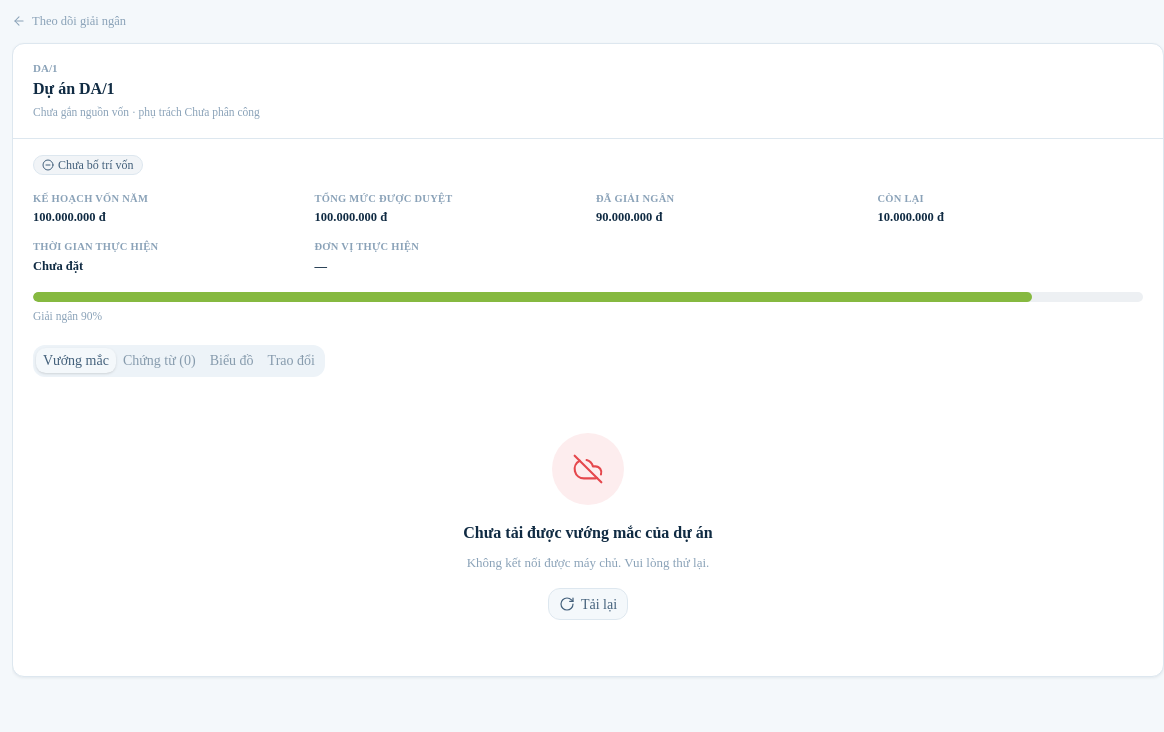
Scenario: §8.3 Biểu đồ tab — the project's curve from the server › a refused read is the server's sentence with a retry, never an empty chart
Click the tab with id "tab-bieu-do-du-an": (232, 361) [203,348,261,373]
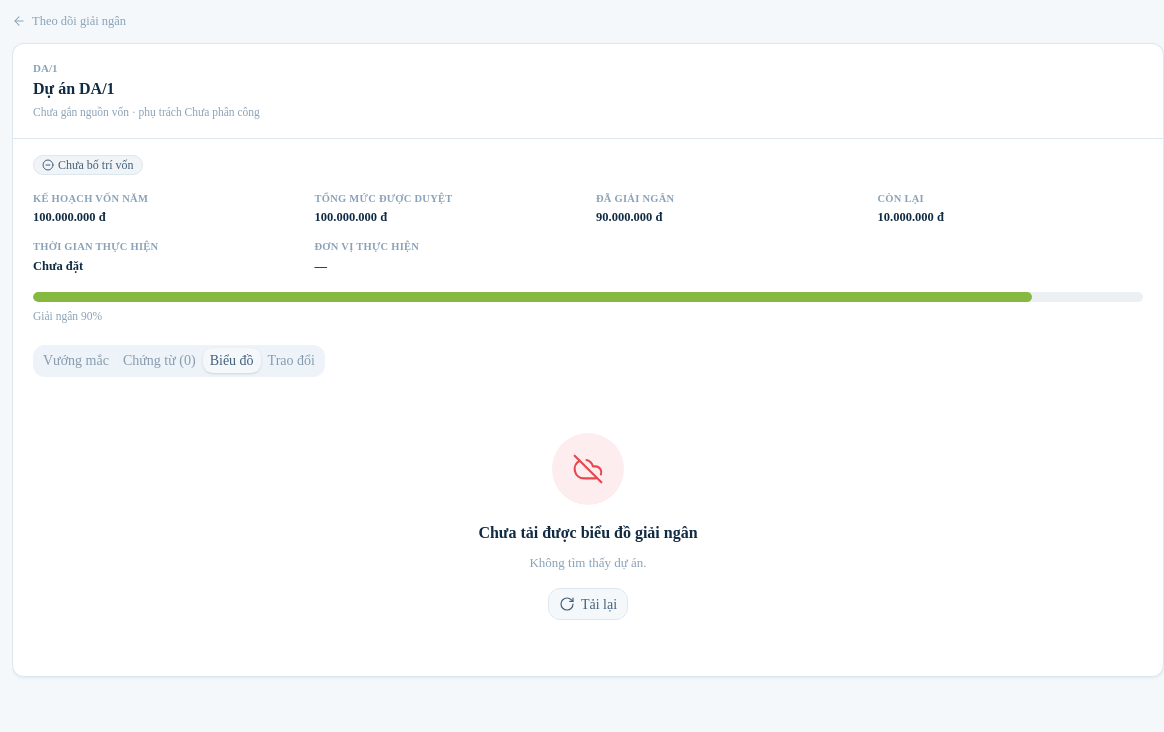
Result: the panel shows "Chưa tải được biểu đồ giải ngân" at [478,524,698,541]
Result: the panel shows "Không tìm thấy dự án." at [529,555,647,570]
